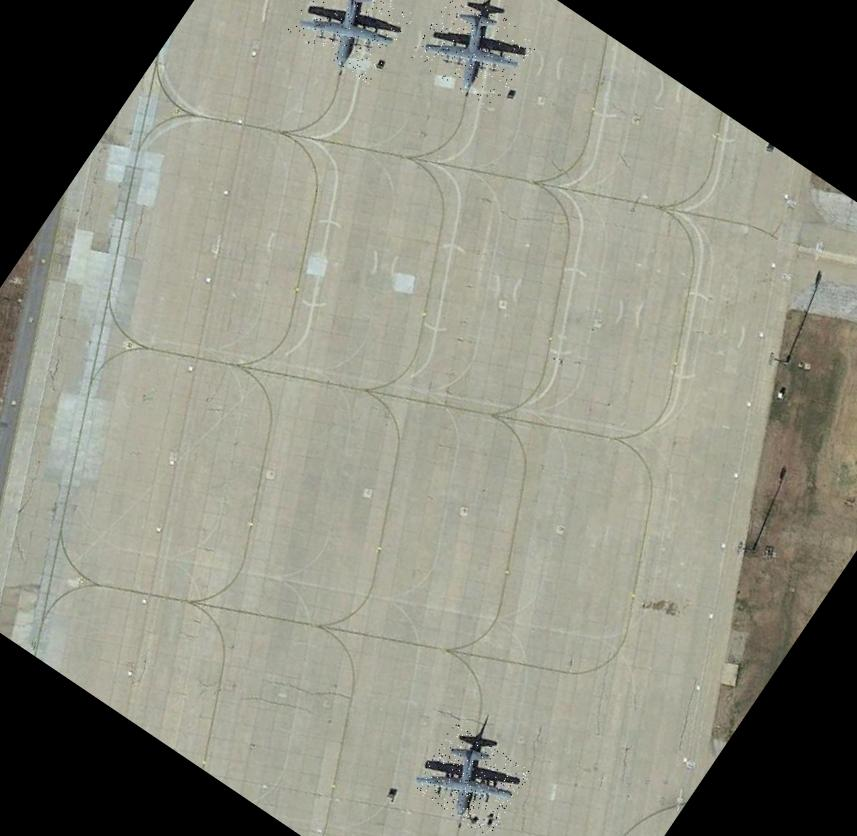A2: (408, 0, 539, 113), (410, 720, 532, 836), (286, 0, 415, 86)
